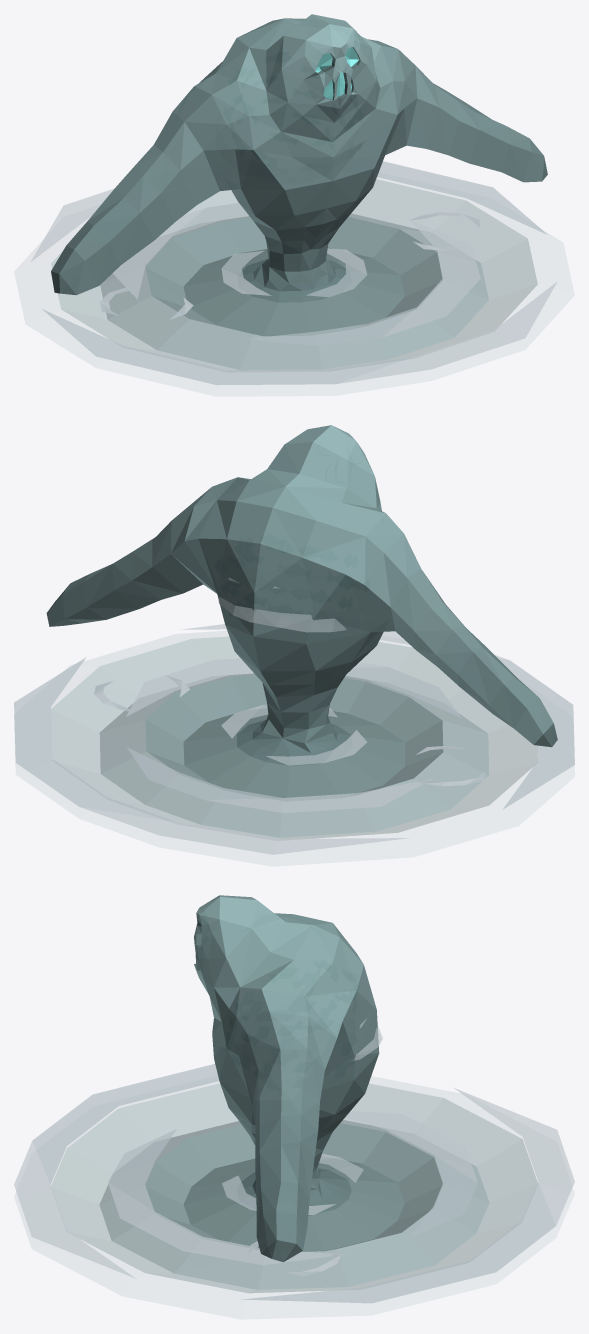
File: tempoross.gltf
3 views of the same model, one above another, from view 1: azimuth 30°, elevation 25°; view 2: azimuth 150°, elevation 25°; view 3: azimuth 270°, elevation 25° (orthographic). The views are drawn at different scales.
Size of the model in its own units: 967 by 555 by 920.
2 materials, 2 textured.
